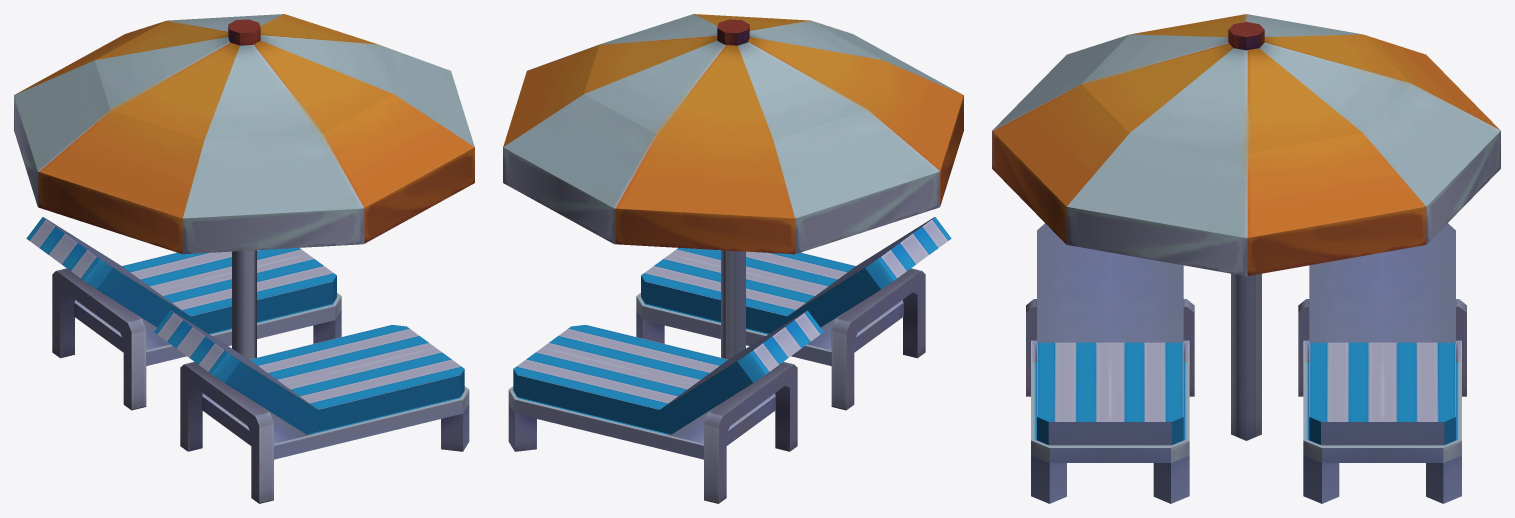
The model's file is scenes_beach_chair01.FBX.
3 views of the same model, side by side, from view 1: azimuth 30°, elevation 25°; view 2: azimuth 150°, elevation 25°; view 3: azimuth 270°, elevation 25° (orthographic). The views are drawn at different scales.
Parts seen in each view (by area): view 1: scenes_beach_chair01; view 2: scenes_beach_chair01; view 3: scenes_beach_chair01.
Part boxes in pixels (bbox=[...]): scenes_beach_chair01: bbox=[14, 14, 474, 503]; scenes_beach_chair01: bbox=[503, 14, 963, 503]; scenes_beach_chair01: bbox=[992, 14, 1500, 503].
Bounding box in the file's own units: 679 × 597 × 679.
